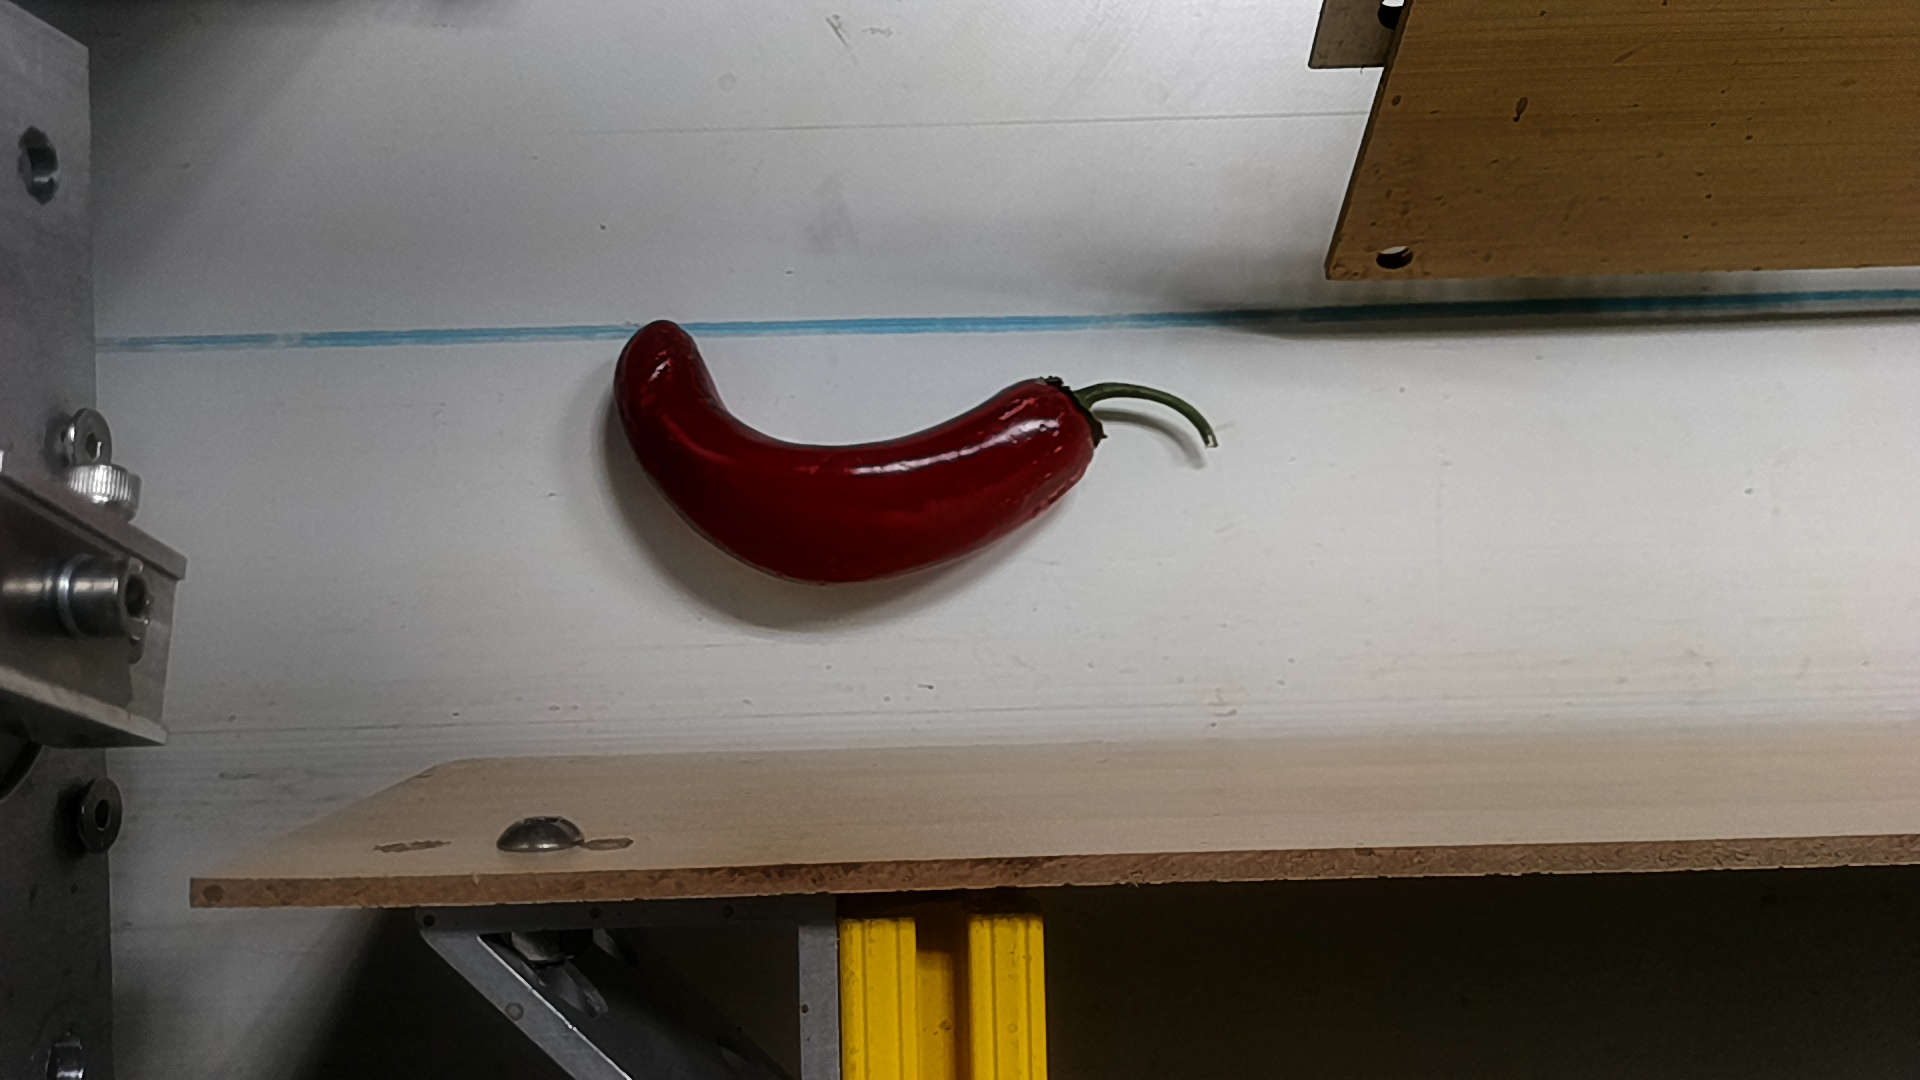Cut Point: (996, 345, 1131, 477)
